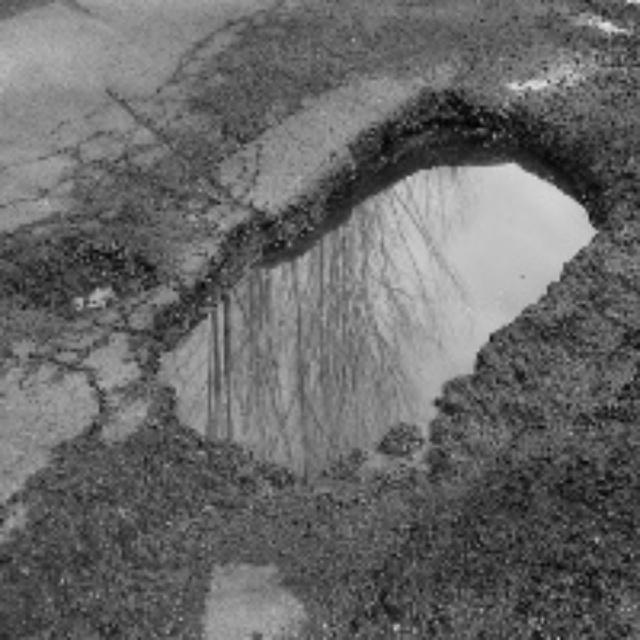Pothole: (222, 96, 640, 436), (20, 239, 156, 335)
